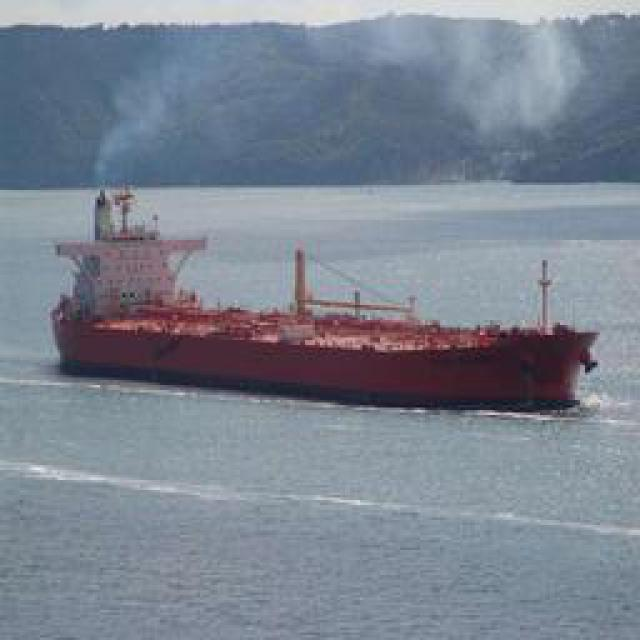Ship: (40, 230, 600, 413)
